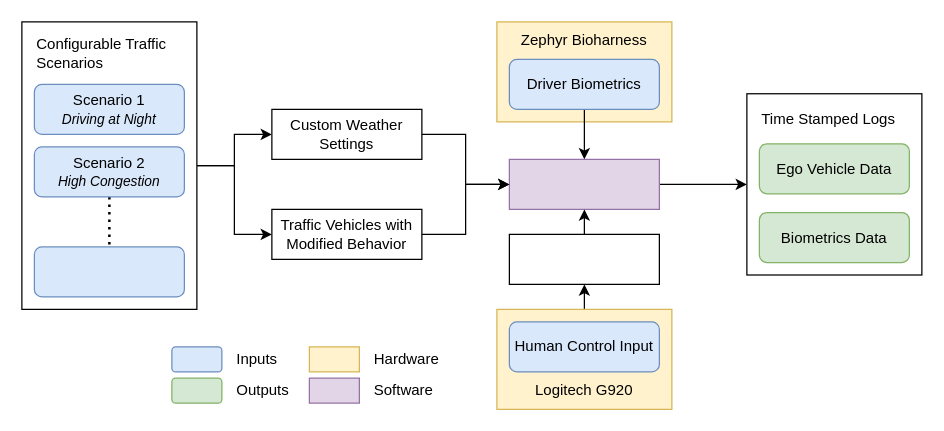
The diagram is 944 pixels wide and 431 high, and some of its shapes have lost their labels. The shapes that lost their labels are listed below. From the top down, each one's centre as x and y in pixels, then its label:
(583,183): CARLA Simulation Loop
(108,271): Scenario N
(583,258): Ego Vehicle
